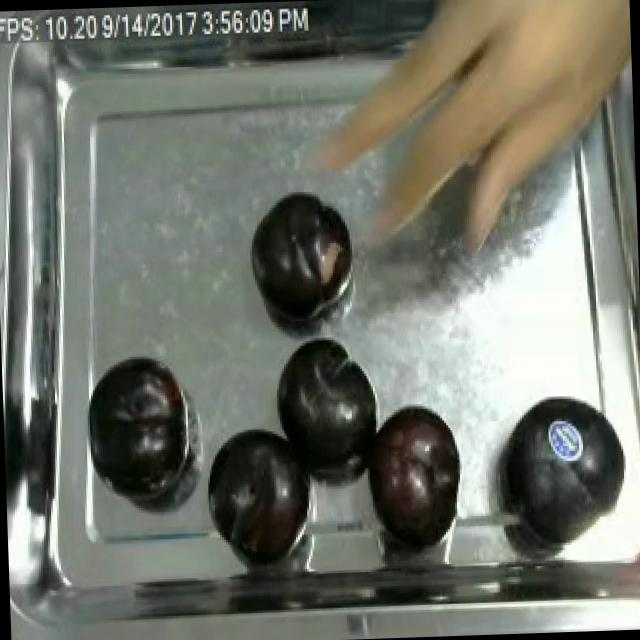Fruit: (488, 386, 638, 555), (353, 394, 472, 552), (79, 346, 196, 499), (264, 328, 384, 476), (202, 417, 316, 567), (244, 182, 358, 330), (305, 0, 461, 72)
